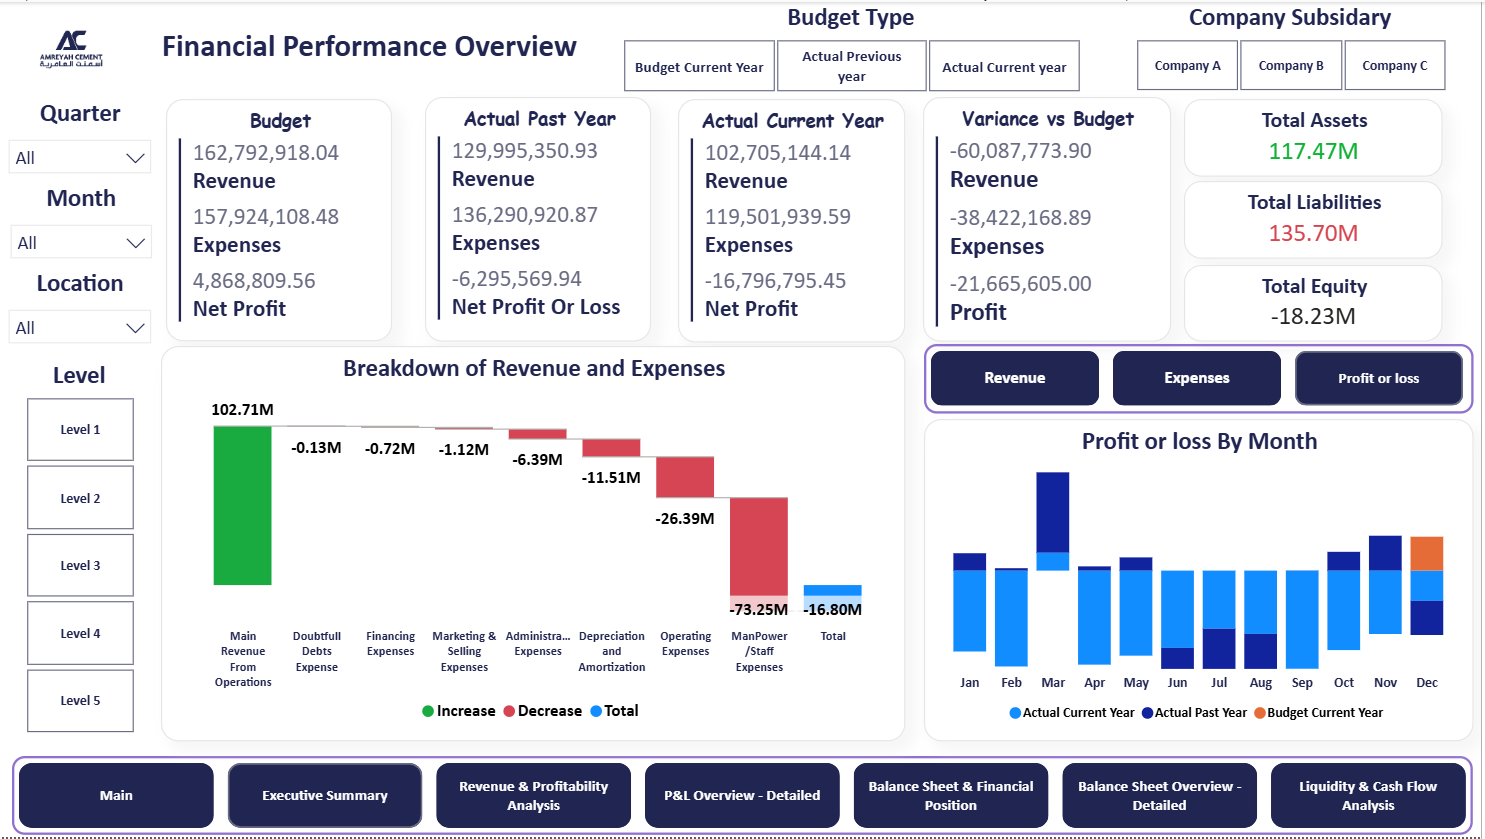

What the dashboard file says about the page in this screenshot:
{"tool":"powerbi","page":{"name":"Executive Summary","canvas":[1280,720],"ordinal":1},"visuals":[{"type":"textbox","box":[127.5,0,387.2,82.4],"z":0,"group":"g1"},{"type":"pageNavigator","title":"Report Pages","box":[13,650,1260,68],"z":0},{"type":"group","id":"g1","title":"Group 1","box":[0,0,514.7,82.4],"z":1000},{"type":"image","box":[0,0,127.5,82.4],"z":1000,"group":"g1"},{"type":"slicer","title":"Budget Type","fields":{"Values":["Budget Type.Name"]},"box":[514.6,0,443,83.1],"z":2000},{"type":"slicer","title":"Company Subsidary","fields":{"Values":["Data Table.Company Subsidary"]},"box":[957.4,0,316,83.3],"z":3000},{"type":"slicer","title":"Quarter","fields":{"Values":["Calendar.Quarter"]},"box":[0,83.1,143.3,73.3],"z":4000},{"type":"slicer","title":"Month","fields":{"Values":["Calendar.MonthName"]},"box":[1.6,156.3,141.7,73.3],"z":5000},{"type":"slicer","title":"Location","fields":{"Values":["Data Table.Location"]},"box":[0,229.6,143.3,73.3],"z":6000},{"type":"multiRowCard","title":"Budget","fields":{"Values":["Measure.Revenue (+) BCY","Measure.Expenses (+) BCY","Measure.Net Profit BCY"]},"box":[145.5,83.6,195.5,209.1],"z":7000},{"type":"multiRowCard","title":"Actual Current Year","fields":{"Values":["Measure.Revenue (+) ACY","Measure.Expenses (+) ACY","Measure.Net Profit ACY"]},"box":[587.5,83.3,195.8,210],"z":8000},{"type":"multiRowCard","title":"Variance vs Budget","fields":{"Values":["Measure.Variance vs Budget (Revenue)","Measure.Variance vs Budget (Expenses)","Measure.Variance vs Budget (Profit)"]},"box":[799.1,81.8,213.6,210.9],"z":9000},{"type":"card","title":"Total Assets","fields":{"Values":["Measure.Total Assets"]},"box":[1024.2,83.3,223.3,66.7],"z":10000},{"type":"card","title":"Total Liabilities","fields":{"Values":["Measure.Total Liabilities"]},"box":[1024.2,154.2,223.3,66.7],"z":11000},{"type":"card","title":"Total Equity","fields":{"Values":["Measure.Total Equity"]},"box":[1024.2,226.7,223.3,65.8],"z":12000},{"type":"multiRowCard","title":"Actual Past Year","fields":{"Values":["Measure.Revenue (+) APY","Measure.Expenses (+) APY","Measure.Net Profit (APY)"]},"box":[369.1,81.8,195.5,210.9],"z":13000},{"type":"waterfallChart","title":"Breakdown of Revenue and Expenses","fields":{"Category":["Data Table.Level 1","Data Table.Level 2","Data Table.Level 3","Data Table.Level 4","Data Table.Level 5"],"Y":["Measure.Net Profit"]},"box":[141.8,296.8,641.8,340.6],"z":14000},{"type":"hundredPercentStackedColumnChart","title":"Profit or loss By Month","fields":{"Category":["Calendar.MonthName"],"Y":["Measure.Net Profit ACY","Measure.Net Profit (APY)","Measure.Net Profit BCY"]},"box":[799.3,359.8,473.7,277.5],"z":15000},{"type":"bookmarkNavigator","box":[799.3,295,473.7,59.5],"z":16000},{"type":"slicer","title":"Level","fields":{"Values":["Level Hierarchy Selector.Level Hierarchy Selector"]},"box":[0,309.1,141.8,328.3],"z":17000}]}

Visuals, with their boxes in screenshot pixels (x1, y1, x2, y2), scaled from the page's 1280x720 canvas onto the 1485x839 screenshot:
textbox: x1=148 y1=0 x2=597 y2=96
"Report Pages" pageNavigator: x1=15 y1=757 x2=1477 y2=837
"Group 1" group: x1=0 y1=0 x2=597 y2=96
image: x1=0 y1=0 x2=148 y2=96
"Budget Type" slicer: x1=597 y1=0 x2=1111 y2=97
"Company Subsidary" slicer: x1=1111 y1=0 x2=1477 y2=97
"Quarter" slicer: x1=0 y1=97 x2=166 y2=182
"Month" slicer: x1=2 y1=182 x2=166 y2=268
"Location" slicer: x1=0 y1=268 x2=166 y2=353
"Budget" multiRowCard: x1=169 y1=97 x2=396 y2=341
"Actual Current Year" multiRowCard: x1=682 y1=97 x2=909 y2=342
"Variance vs Budget" multiRowCard: x1=927 y1=95 x2=1175 y2=341
"Total Assets" card: x1=1188 y1=97 x2=1447 y2=175
"Total Liabilities" card: x1=1188 y1=180 x2=1447 y2=257
"Total Equity" card: x1=1188 y1=264 x2=1447 y2=341
"Actual Past Year" multiRowCard: x1=428 y1=95 x2=655 y2=341
"Breakdown of Revenue and Expenses" waterfallChart: x1=165 y1=346 x2=909 y2=743
"Profit or loss By Month" hundredPercentStackedColumnChart: x1=927 y1=419 x2=1477 y2=743
bookmarkNavigator: x1=927 y1=344 x2=1477 y2=413
"Level" slicer: x1=0 y1=360 x2=165 y2=743
